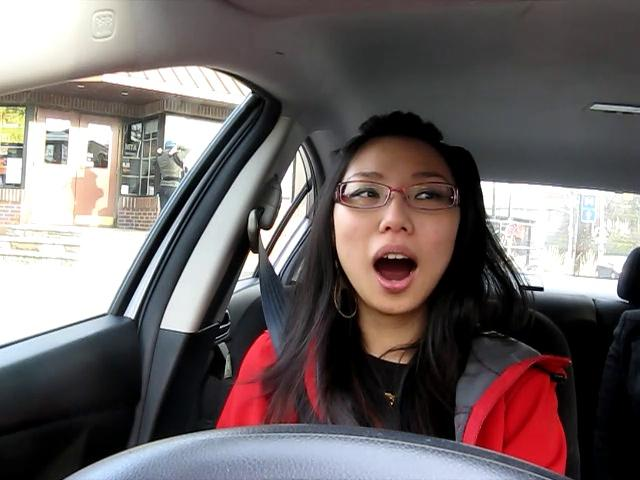open_eyeL: (338, 179, 393, 214)
open_eyeR: (398, 183, 465, 216)
yawn: (354, 241, 436, 292)
